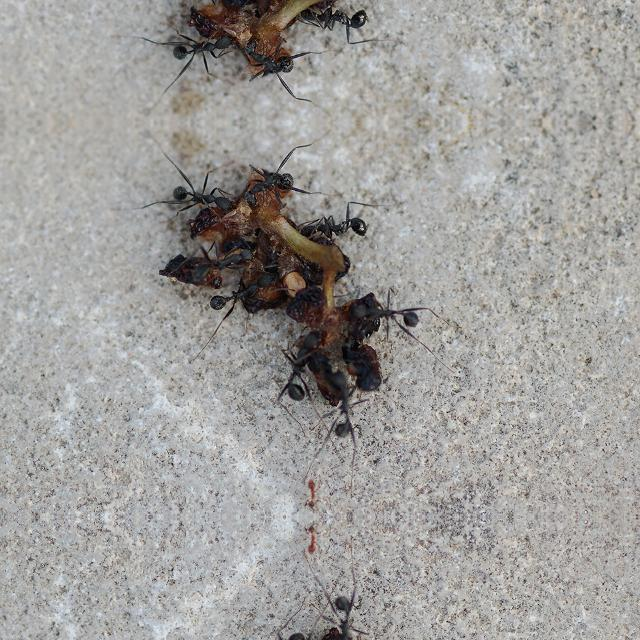Apheanogaster: (260, 324, 332, 410), (336, 285, 436, 335), (292, 207, 381, 243), (292, 1, 381, 37), (161, 175, 237, 215), (161, 29, 237, 69), (238, 162, 308, 202), (238, 42, 308, 82), (198, 281, 272, 317), (328, 368, 362, 442), (203, 244, 261, 282), (328, 590, 362, 640)
